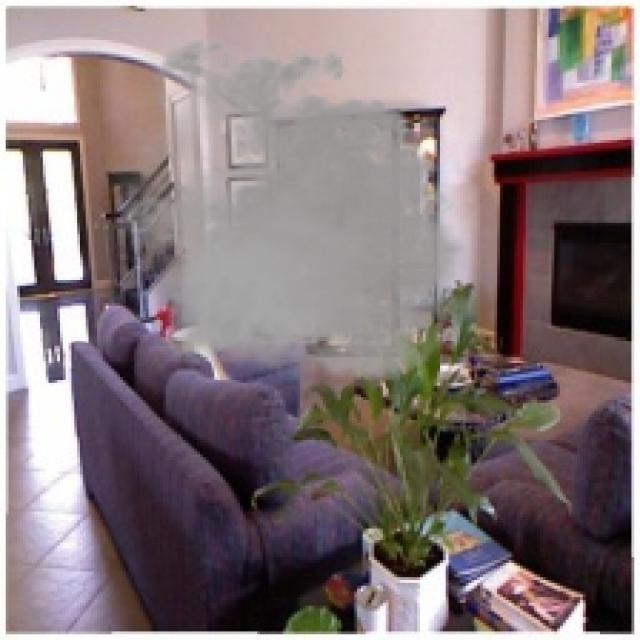smoke: (97, 26, 489, 394)
